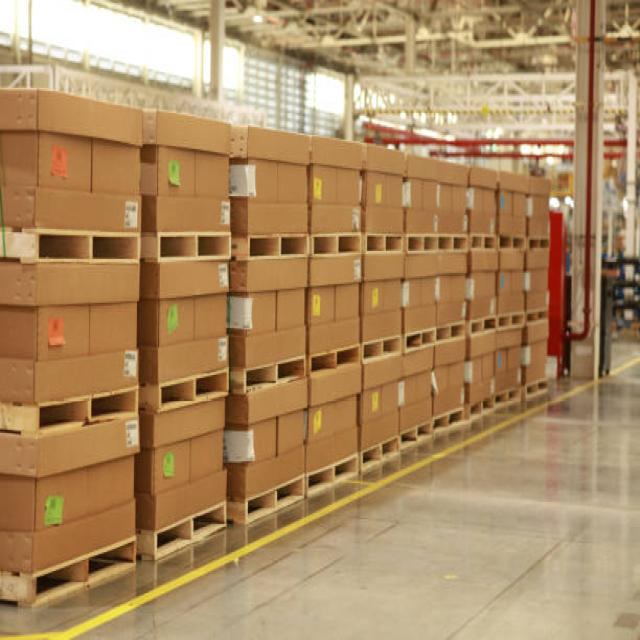Wooden-Pallets: (0, 528, 140, 615), (0, 376, 148, 443), (0, 218, 145, 272), (148, 491, 236, 575), (155, 357, 240, 421), (151, 221, 237, 270), (245, 469, 307, 533), (241, 349, 307, 398), (244, 227, 308, 265)
